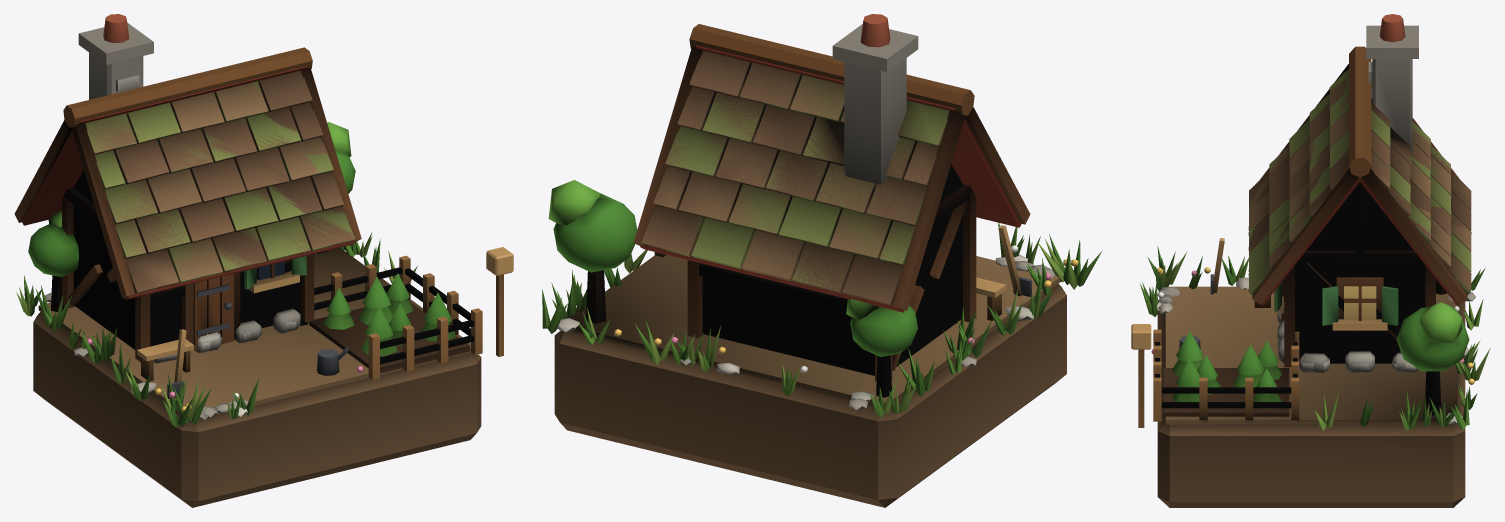
The model's file is forester.glb.
3 views of the same model, side by side, from view 1: azimuth 30°, elevation 25°; view 2: azimuth 150°, elevation 25°; view 3: azimuth 270°, elevation 25° (orthographic). The views are drawn at different scales.
Parts seen in each view (by area): view 1: forester_l1, forester_l2, forester_l3; view 2: forester_l1, forester_l2, forester_l3; view 3: forester_l1, forester_l3, forester_l2.
Part boxes in pixels (left/top/right/bottom): forester_l1: left=14, top=14, right=482, bottom=507; forester_l2: left=28, top=79, right=455, bottom=419; forester_l3: left=45, top=79, right=513, bottom=427; forester_l1: left=551, top=14, right=1066, bottom=507; forester_l2: left=572, top=50, right=1055, bottom=402; forester_l3: left=542, top=52, right=1102, bottom=410; forester_l1: left=1153, top=14, right=1490, bottom=507; forester_l3: left=1131, top=62, right=1483, bottom=431; forester_l2: left=1139, top=63, right=1477, bottom=426.
Size of the model in its own units: 0.9232 by 1.03 by 0.8875.
